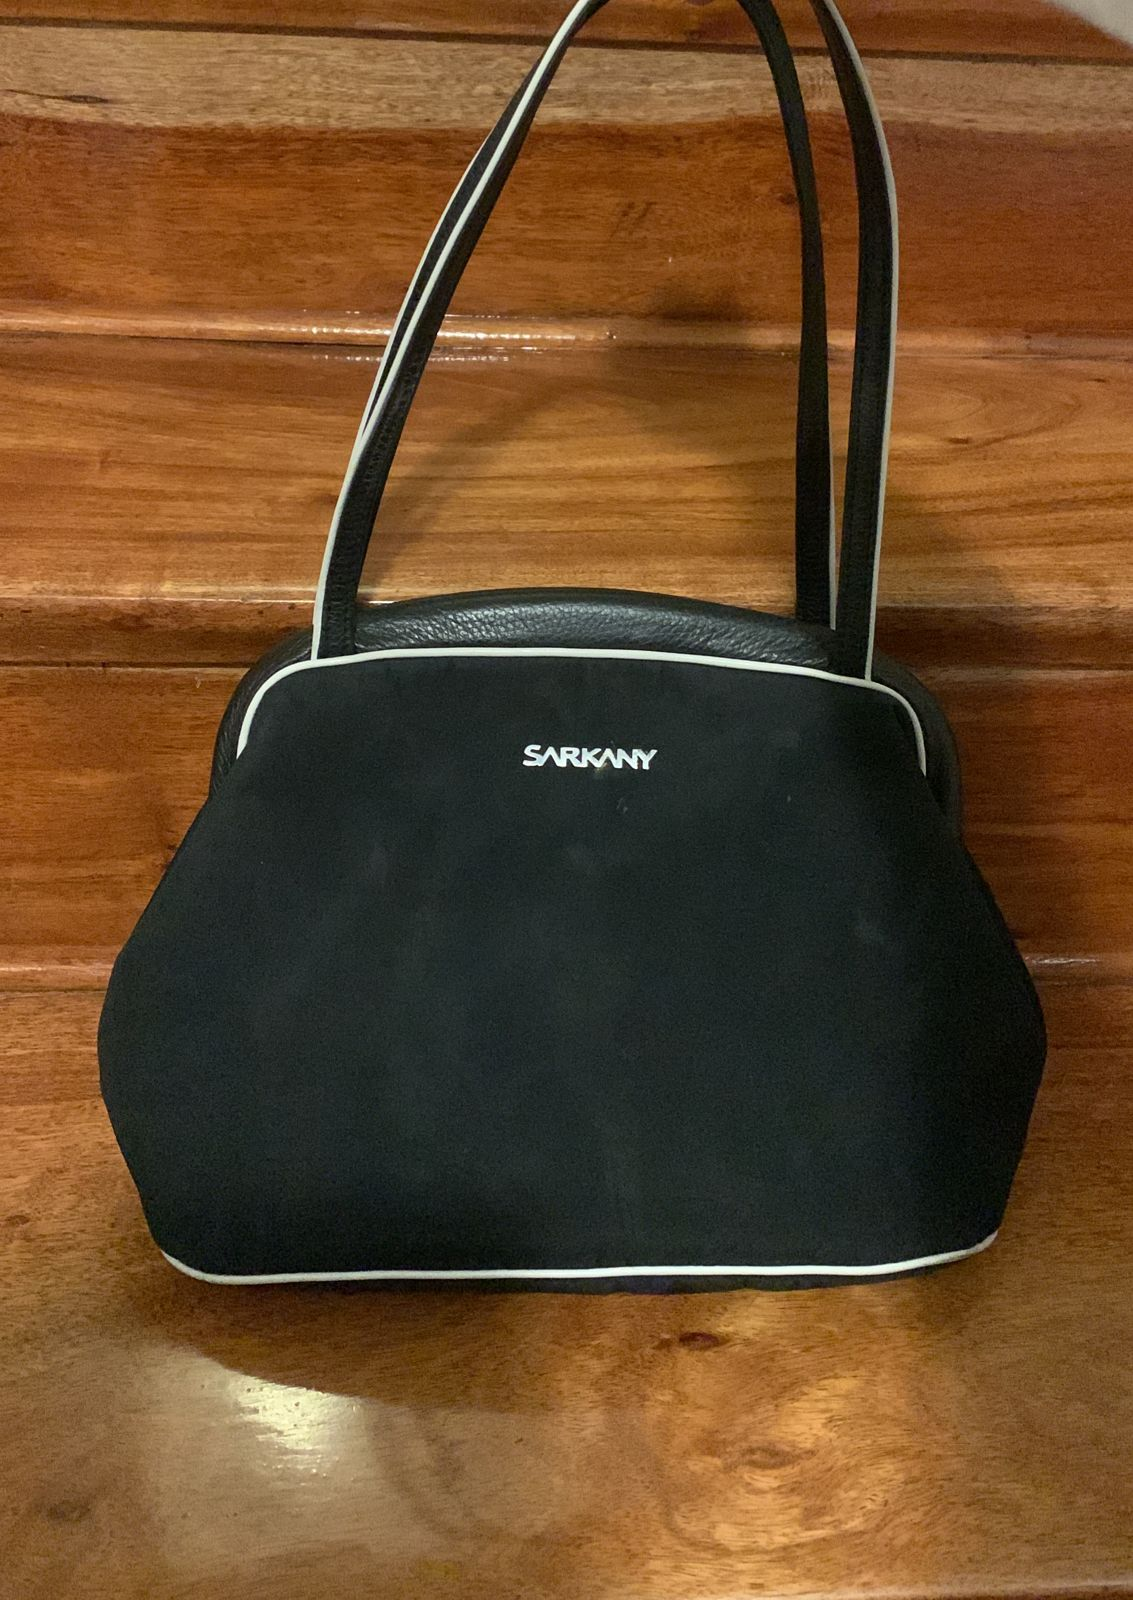cartera: (85, 1, 1077, 1301)
cuero: (291, 863, 861, 1221)
